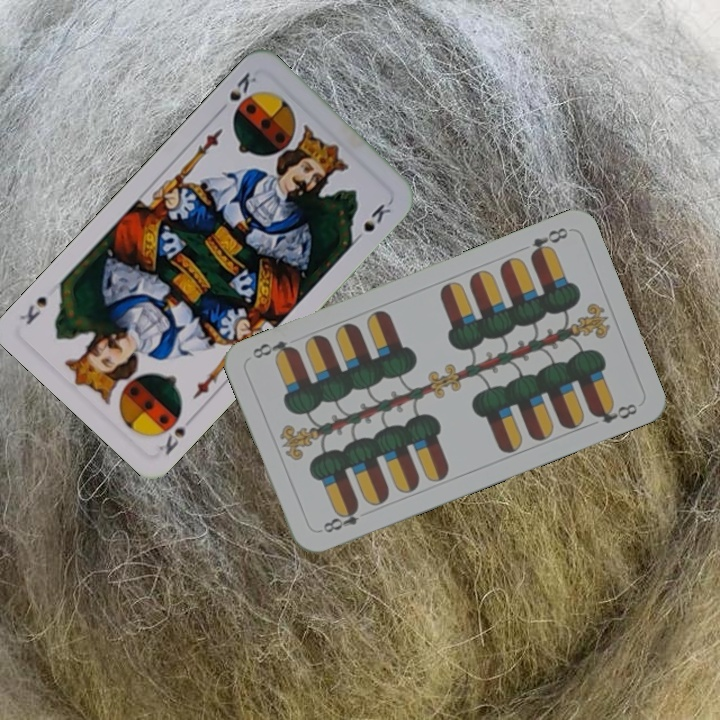E8: (526, 223, 571, 261), (315, 501, 362, 536)
SK: (154, 406, 197, 458), (225, 68, 260, 104)
